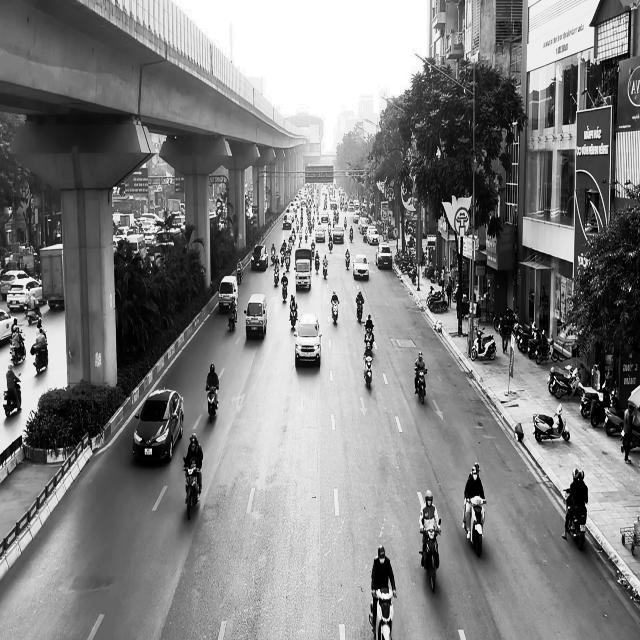car: (133, 387, 184, 463), (294, 312, 322, 368), (244, 294, 268, 339), (218, 275, 238, 313), (0, 307, 17, 343), (294, 258, 312, 290), (352, 253, 370, 280), (251, 244, 269, 270)
motorbike: (419, 519, 442, 593), (462, 495, 487, 557), (563, 489, 587, 550), (533, 403, 570, 442), (371, 588, 397, 640), (184, 463, 202, 520), (3, 372, 22, 417), (31, 328, 49, 374), (471, 328, 496, 361), (10, 329, 26, 365), (206, 384, 219, 423), (415, 368, 428, 405), (364, 355, 374, 389), (289, 304, 298, 329), (365, 324, 374, 349), (228, 307, 237, 331), (356, 300, 364, 322), (332, 300, 339, 324), (282, 279, 288, 301), (323, 262, 328, 278), (345, 255, 350, 269)
